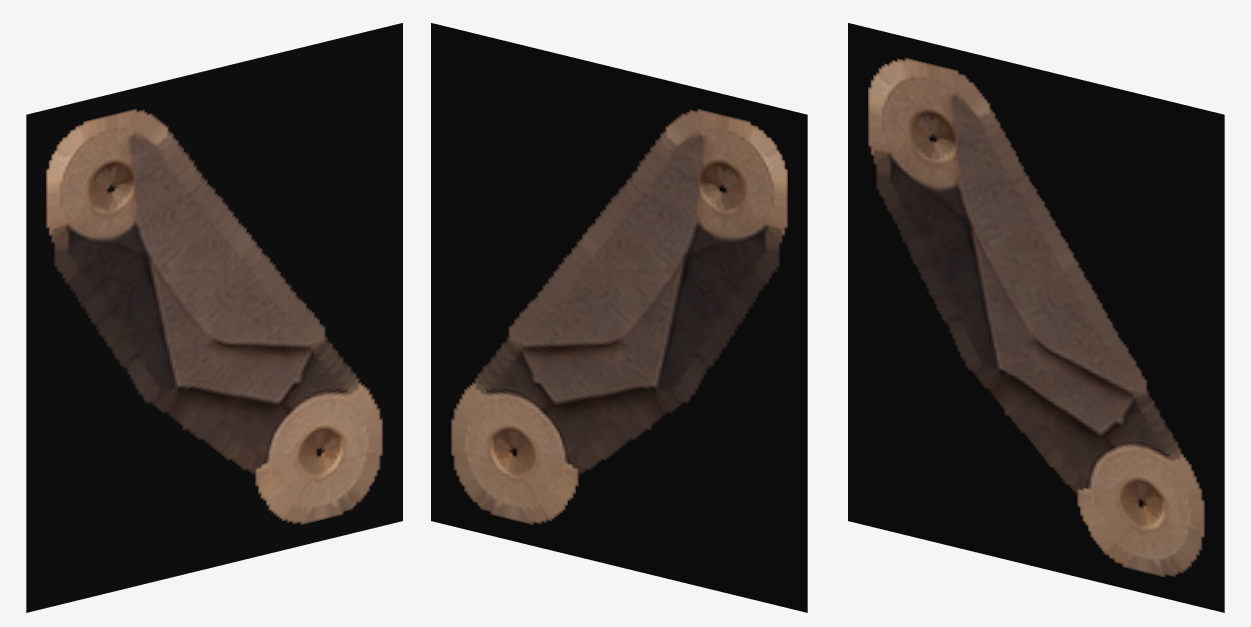
File: Variant06Upper.glb
3 renders of one model, left to right at view 1: azimuth 30°, elevation 25°; view 2: azimuth 150°, elevation 25°; view 3: azimuth 330°, elevation 25°, orthographic.
Parts seen in each view (by area): view 1: PaperVolume; view 2: PaperVolume; view 3: PaperVolume.
Boxes of the visible parts, x1,y1,x2,y2 form: PaperVolume: [26, 23, 402, 612]; PaperVolume: [431, 23, 807, 612]; PaperVolume: [848, 23, 1224, 612].
Size of the model in its own units: 1.44 by 1.82 by 0.08.
3 materials, 2 textured.
